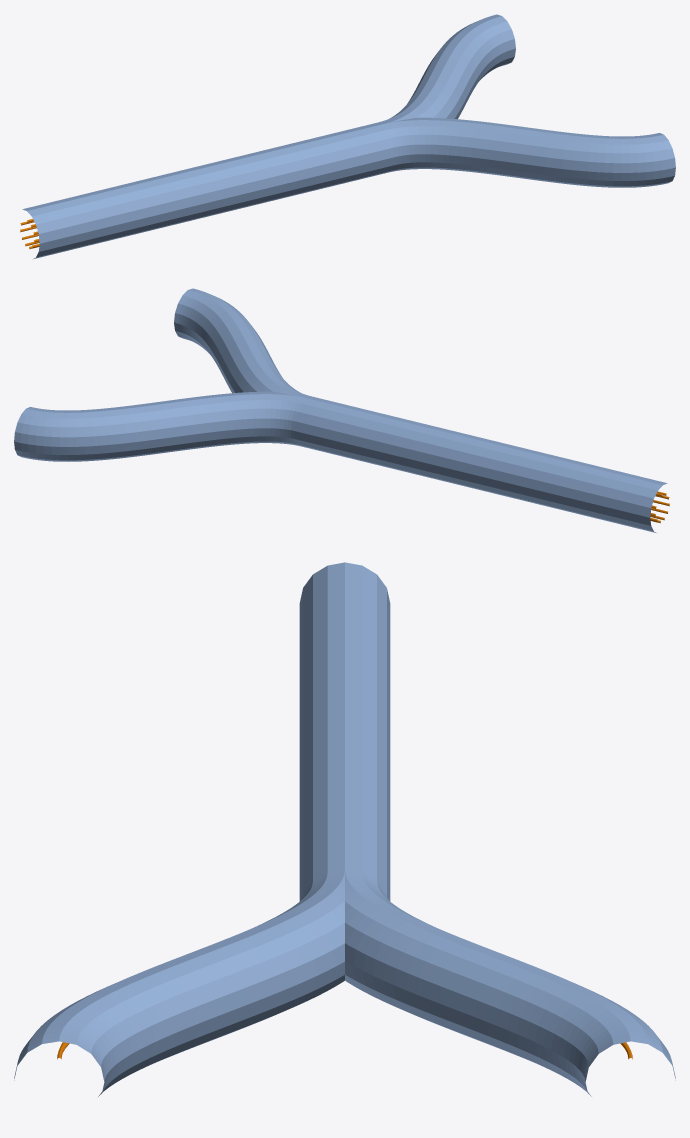
Rendered from 2_A60025765_Y_split.glb.
3 renders of one model, top to bottom at view 1: azimuth 30°, elevation 25°; view 2: azimuth 150°, elevation 25°; view 3: azimuth 270°, elevation 25°, orthographic. The views are drawn at different scales.
Parts seen in each view (by area): view 1: world; view 2: world; view 3: world.
Boxes of the visible parts, x1,y1,x2,y2 form: world: [20, 14, 675, 258]; world: [14, 288, 669, 532]; world: [14, 562, 675, 1096].
Size of the model in its own units: 250 by 20 by 146.
